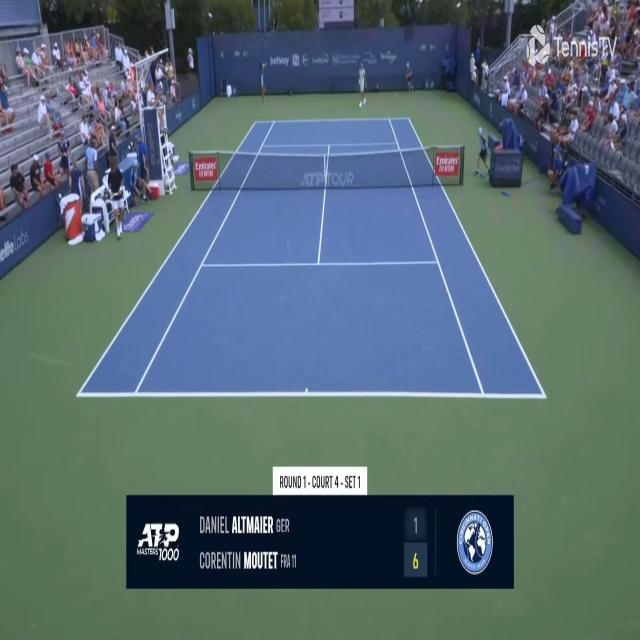tennis-player: (356, 60, 367, 108)
